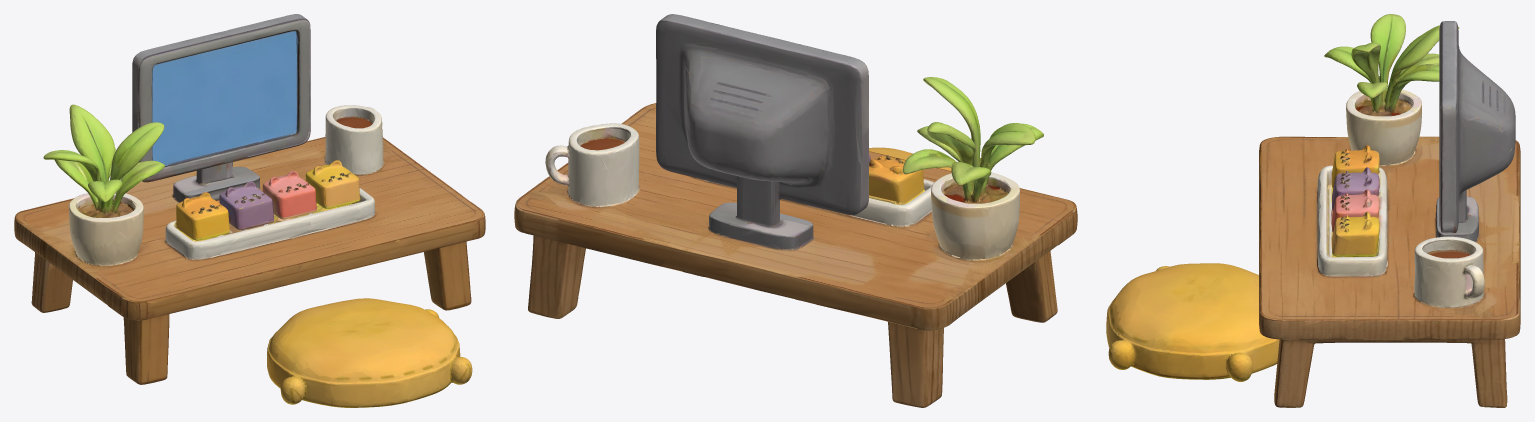
The model's file is low-monitor-cat-keycap-workstation-meshy6-web-v3.glb.
3 renders of one model, left to right at view 1: azimuth 30°, elevation 25°; view 2: azimuth 150°, elevation 25°; view 3: azimuth 270°, elevation 25°, orthographic. The views are drawn at different scales.
Size of the model in its own units: 1.9 by 1.21 by 1.7.
1 material, 1 textured.
